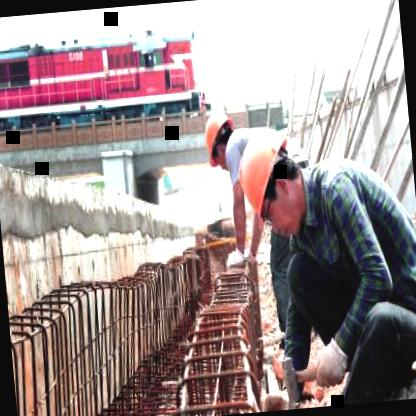helmet: (224, 116, 312, 248), (202, 112, 236, 167)
